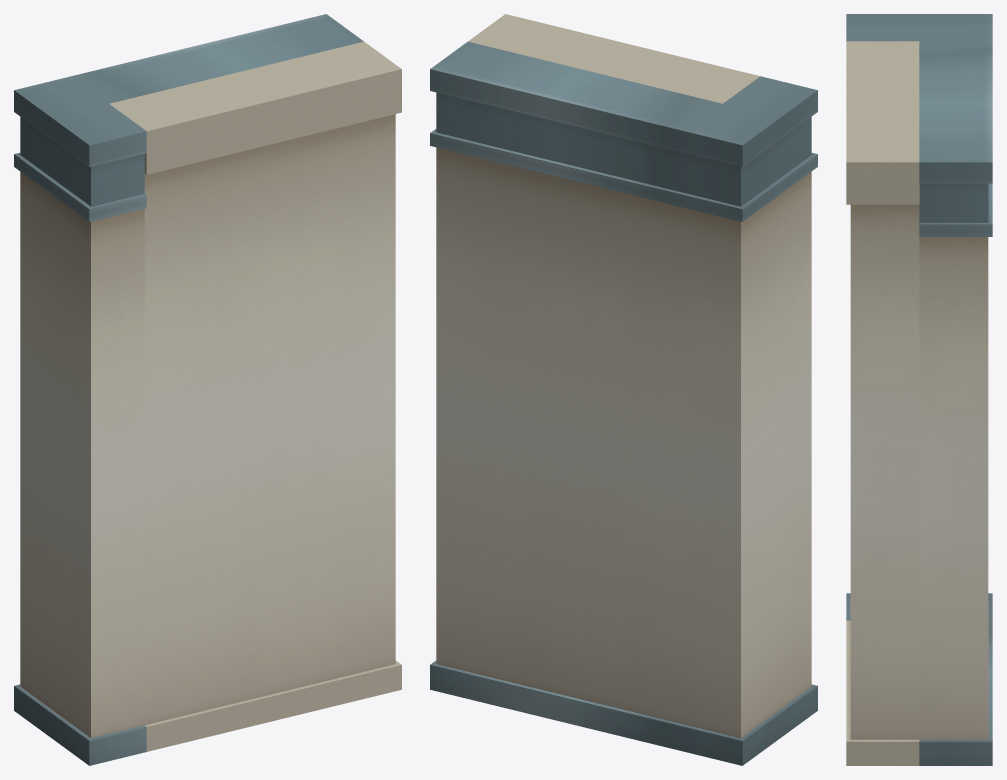
The model's file is SHW_Pillar_01_16.fbx.
3 views of the same model, side by side, from view 1: azimuth 30°, elevation 25°; view 2: azimuth 150°, elevation 25°; view 3: azimuth 270°, elevation 25° (orthographic). The views are drawn at different scales.
Visible parts, largest first — view 1: shw_pillar_01_16; view 2: shw_pillar_01_16; view 3: shw_pillar_01_16.
Boxes of the visible parts, box(x1,y1,x2,y2) form: shw_pillar_01_16: box(14, 14, 401, 765); shw_pillar_01_16: box(430, 14, 817, 765); shw_pillar_01_16: box(846, 14, 992, 765).
Size of the model in its own units: 158 by 300 by 66.
